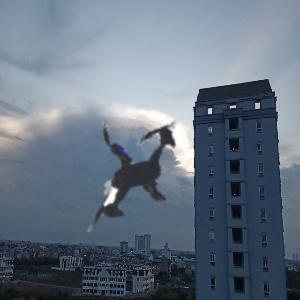drone: (18, 65, 238, 285)
